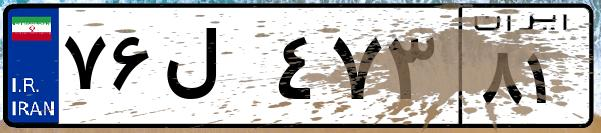1: (525, 38, 570, 115)
3: (385, 28, 445, 110)
4: (270, 28, 330, 110)
6: (110, 28, 158, 98)
7: (330, 28, 385, 110), (57, 26, 110, 100)
8: (475, 38, 525, 113)
ل: (158, 20, 270, 120)
